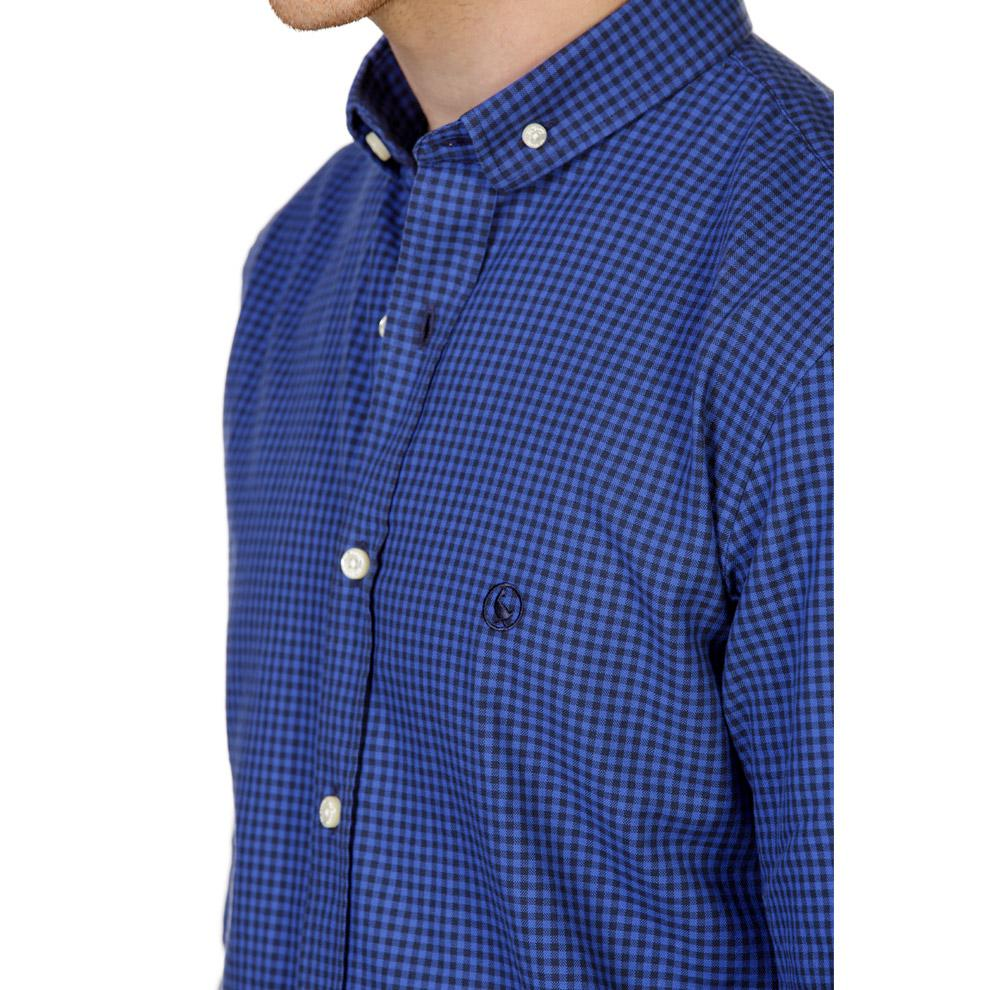teeshirt: (197, 11, 834, 990)
